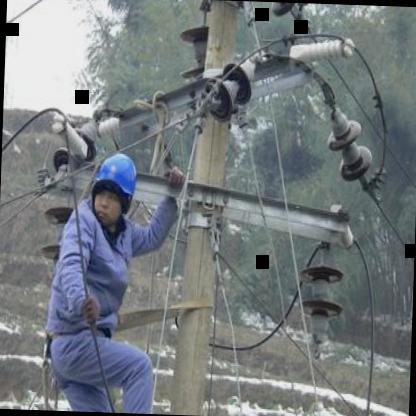helmet: (90, 148, 139, 232)
